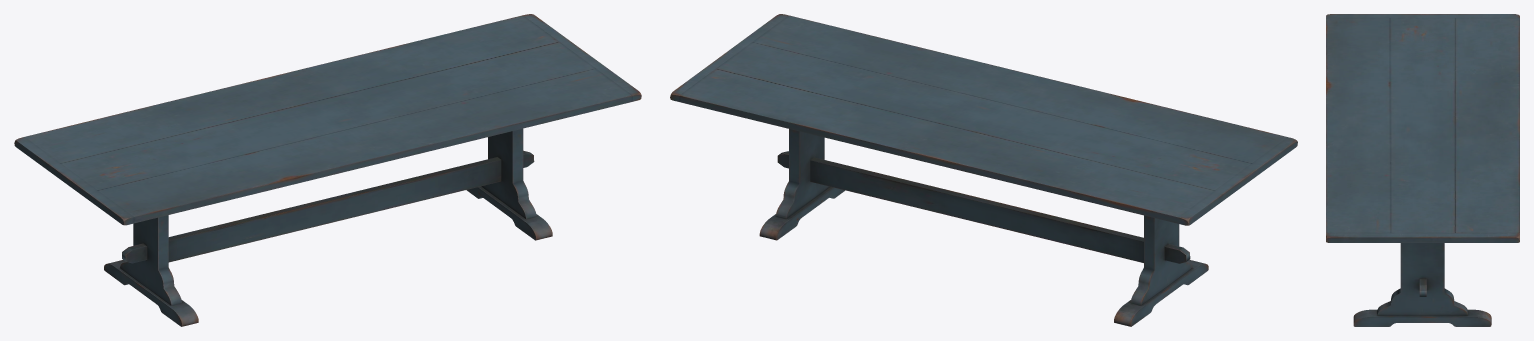
The model's file is painted_wooden_table.glb.
3 views of the same model, side by side, from view 1: azimuth 30°, elevation 25°; view 2: azimuth 150°, elevation 25°; view 3: azimuth 270°, elevation 25° (orthographic). The views are drawn at different scales.
Parts seen in each view (by area): view 1: painted_wooden_table; view 2: painted_wooden_table; view 3: painted_wooden_table.
Part boxes in pixels (x1,y1,x2,y2): painted_wooden_table: [14, 14, 641, 326]; painted_wooden_table: [670, 14, 1297, 326]; painted_wooden_table: [1326, 14, 1519, 326].
Size of the model in its own units: 3 by 0.76 by 1.1.
1 material, 1 textured.
